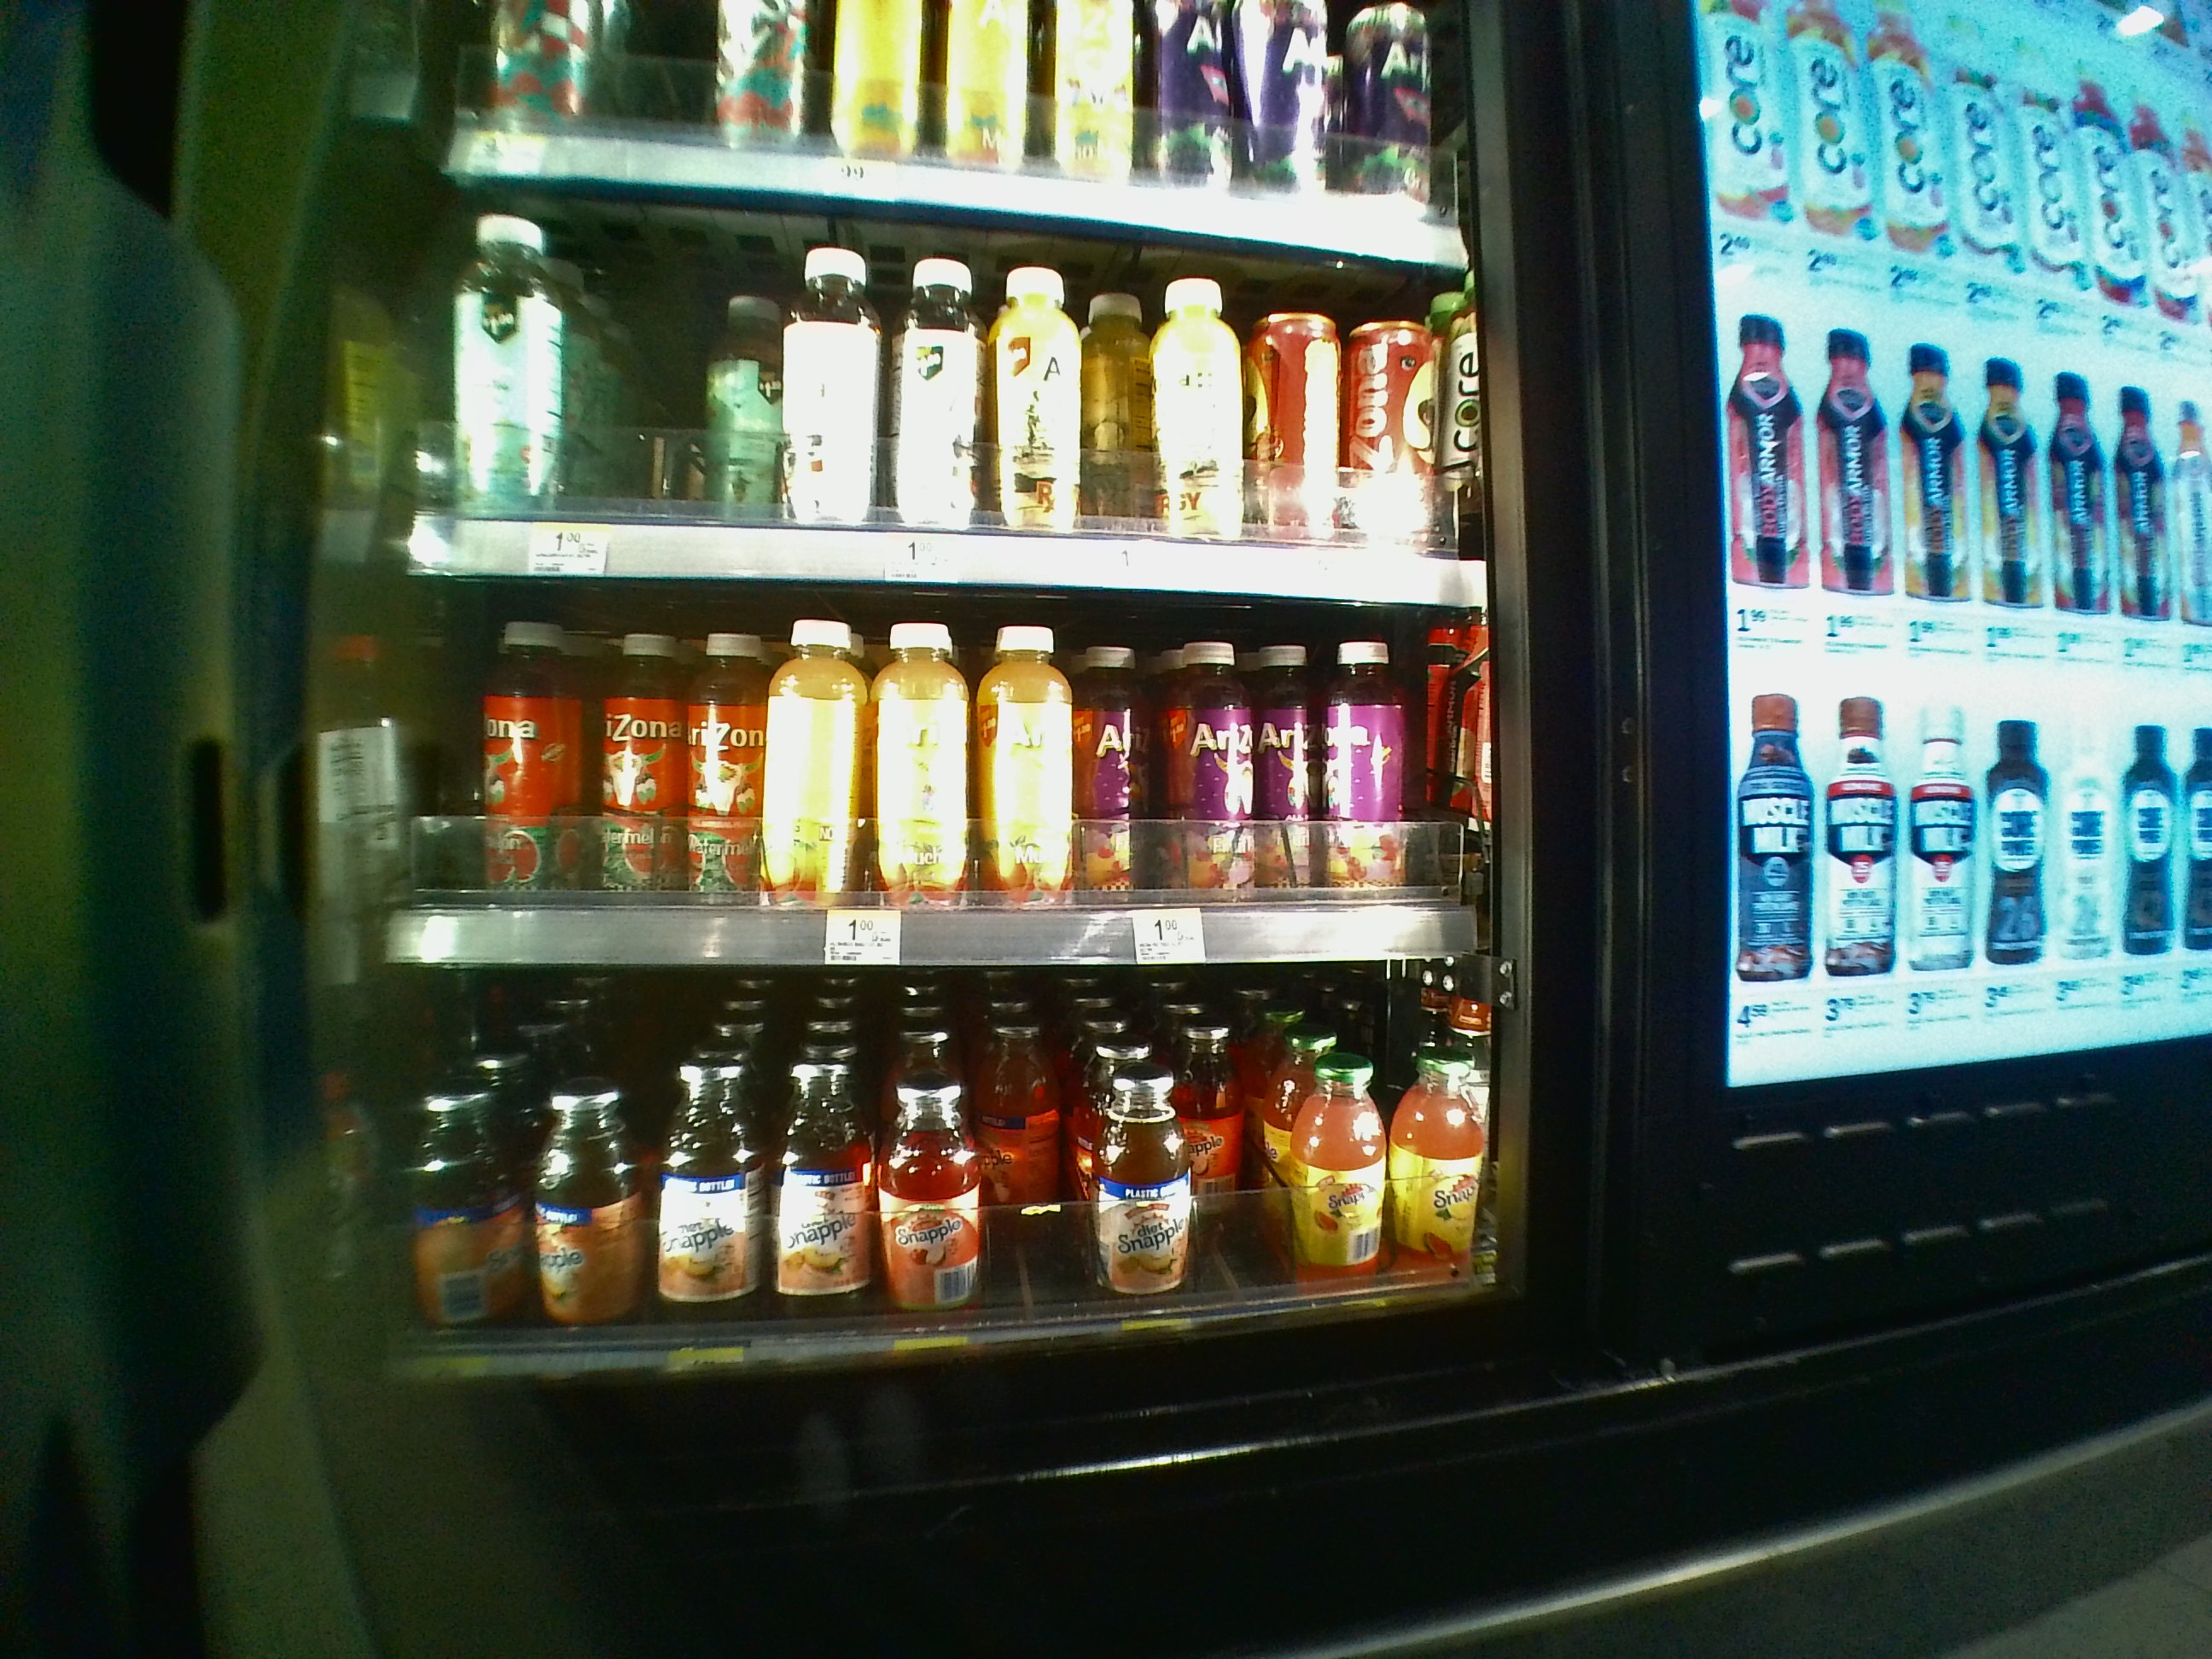shelf: (387, 967, 1498, 1401), (383, 579, 1489, 958)
